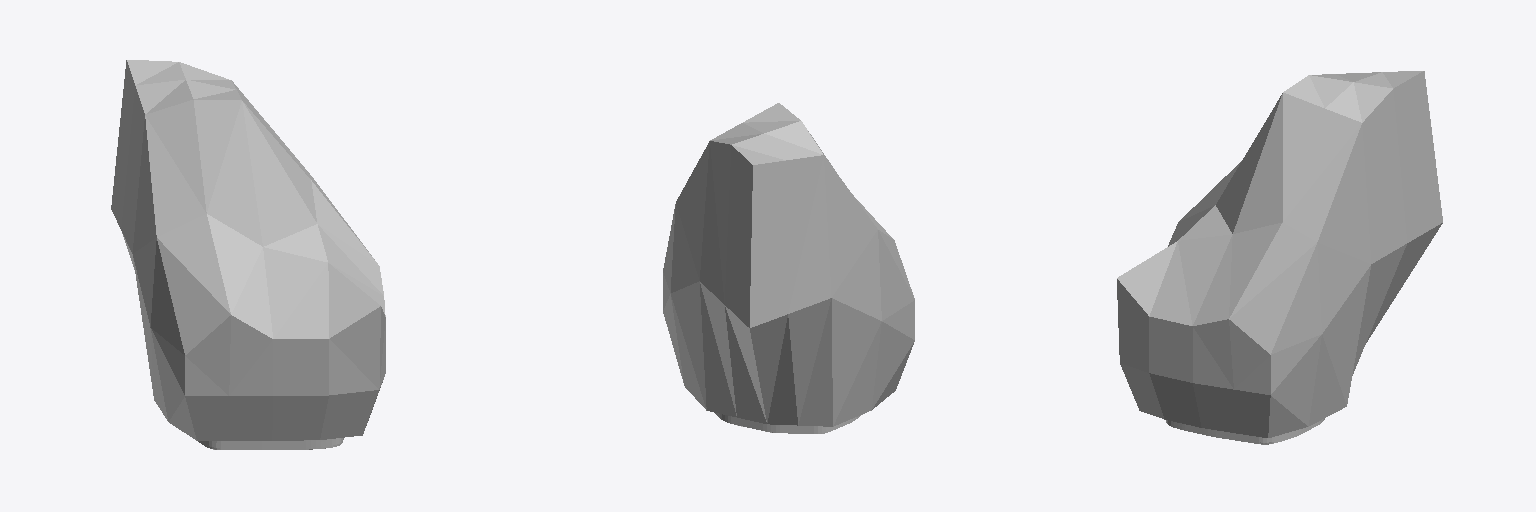
File: LBte.obj
3 renders of one model, left to right at view 1: azimuth 30°, elevation 25°; view 2: azimuth 150°, elevation 25°; view 3: azimuth 270°, elevation 25°, orthographic.
Parts seen in each view (by area): view 1: 立方体.025; view 2: 立方体.025; view 3: 立方体.025.
Part boxes in pixels (x1,y1,x2,y2): 立方体.025: (111,60,385,449); 立方体.025: (663,103,914,433); 立方体.025: (1117,71,1442,444).
Size of the model in its own units: 0.3679 by 0.5048 by 0.4742.